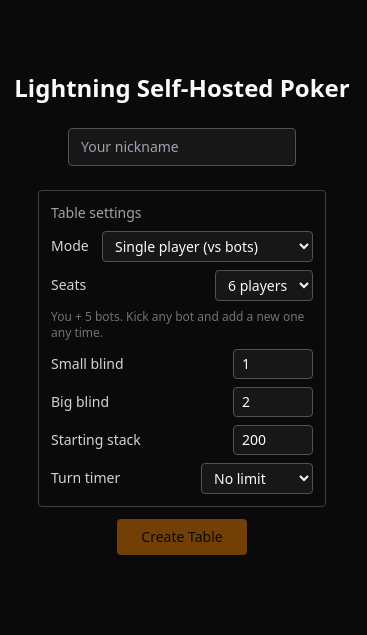
Test: HomeScreen › keeps Create Table disabled until funds are confirmed, in multiplayer mode only
Type "Bob" into the field with placeholder "Your nickname" at (182, 146), box x1=68 y1=128 x2=296 y2=166
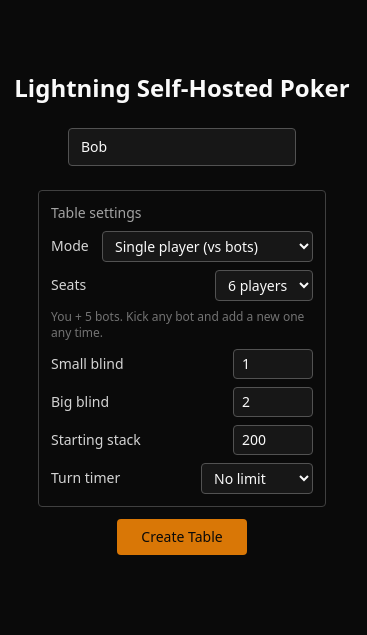
Now the button "Create Table" is enabled, box x1=117 y1=518 x2=247 y2=554
Select "Multiplayer (invite friends)" in the dropdown labelled "Mode" at (208, 246), box x1=102 y1=230 x2=313 y2=262
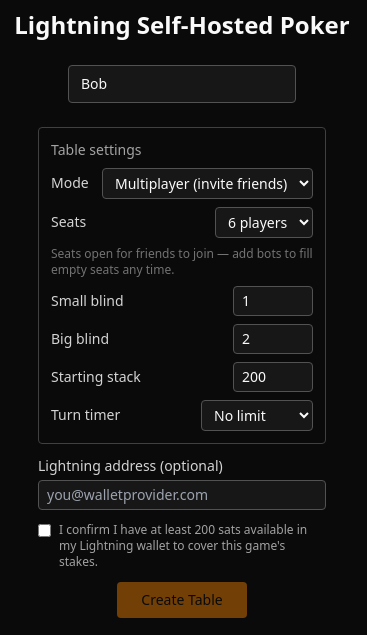
Now the button "Create Table" is disabled, box x1=117 y1=582 x2=247 y2=618
Click the checkbox at (44, 530), box x1=38 y1=524 x2=51 y2=536
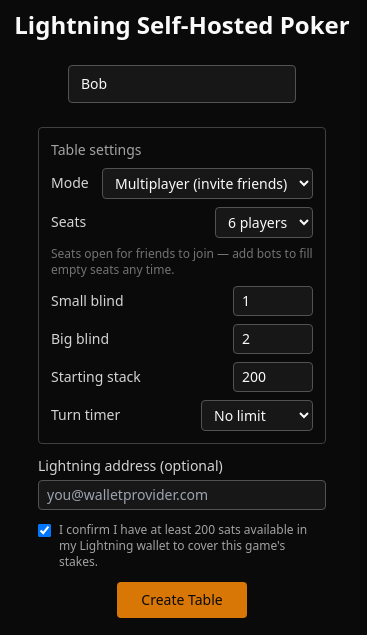
Now the button "Create Table" is enabled, box x1=117 y1=582 x2=247 y2=618
